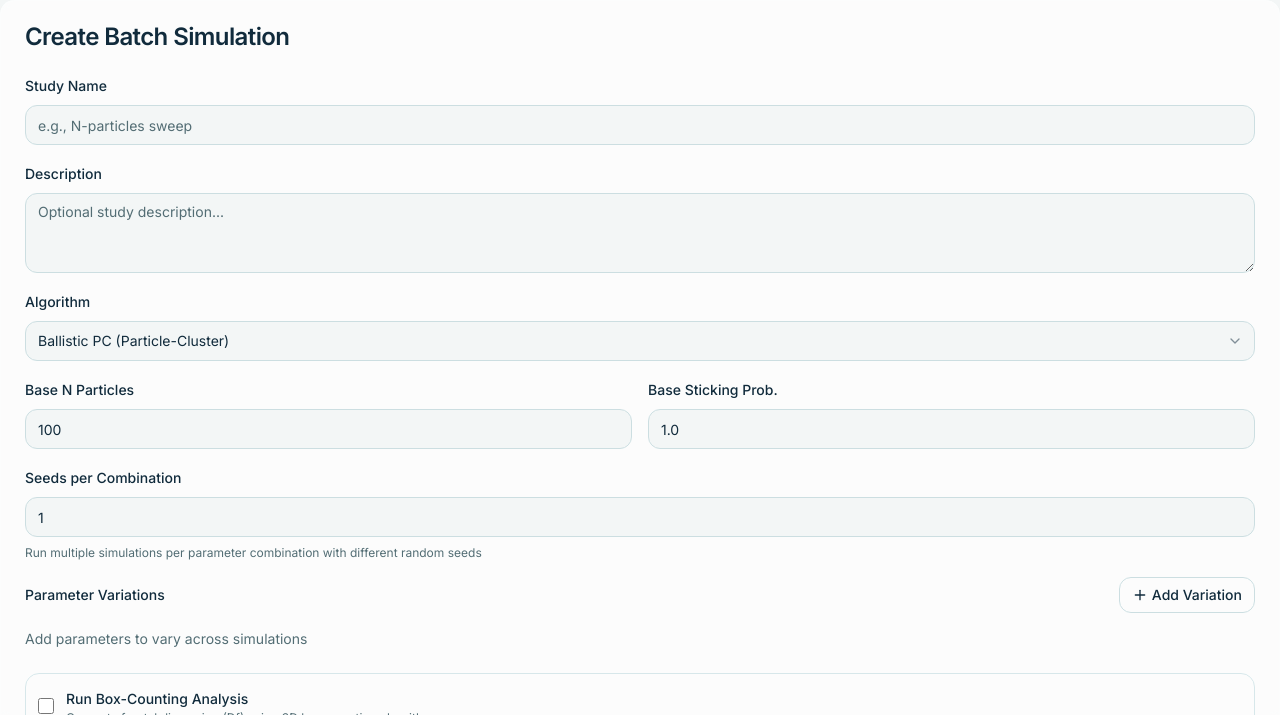
Scenario: BatchSimulationForm — new parameter grid options › seed_type chip click toggles selection
Select "Tunable CC (Cluster-Cluster)" in the dropdown: (640, 341) [25,321,1255,361]
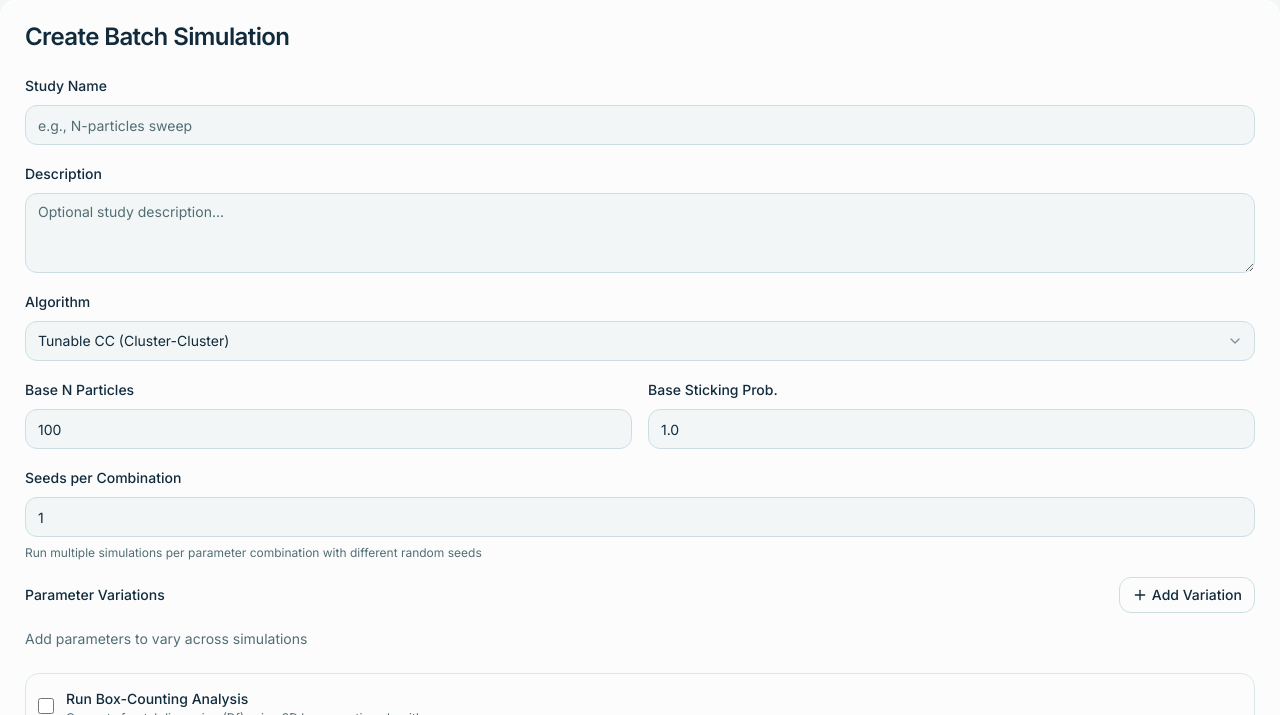
Click the button "Add Variation": (1187, 595) [1119,577,1255,613]
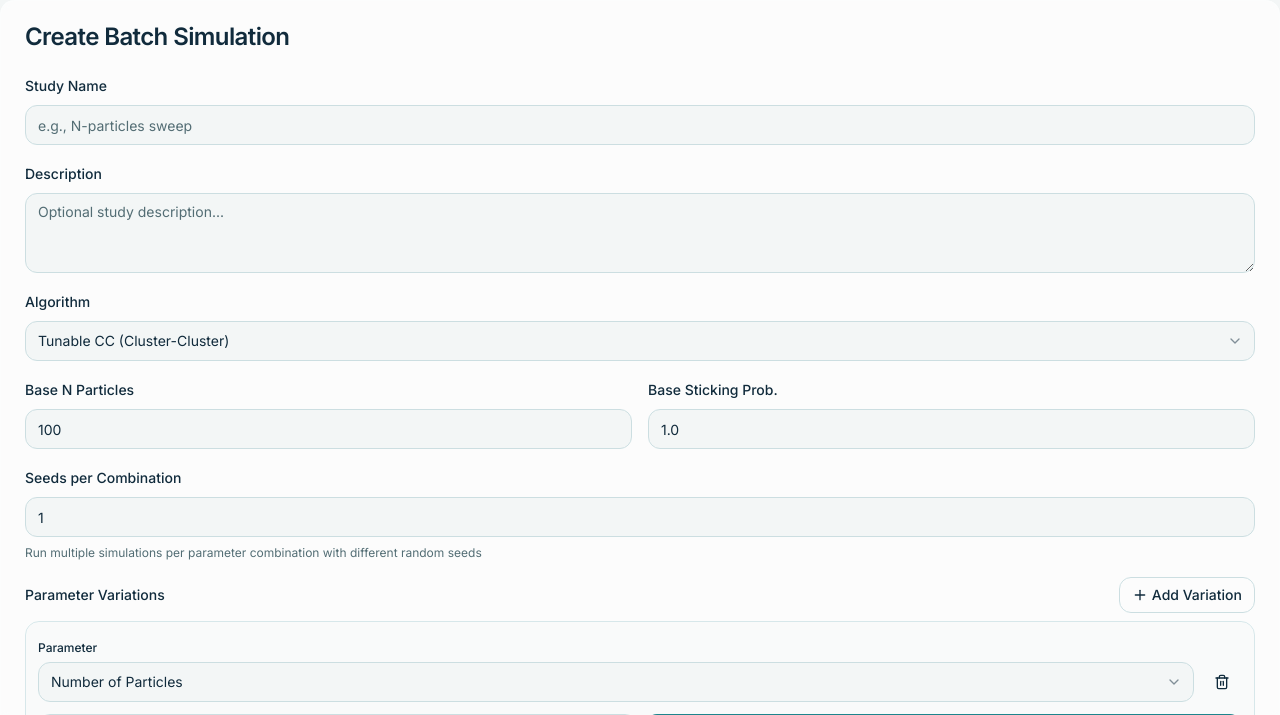
Select "Seed type (monomer/dimer/trimer)" in the dropdown below "Parameter Variations": (616, 682) [38,662,1194,702]
(page scrolled)
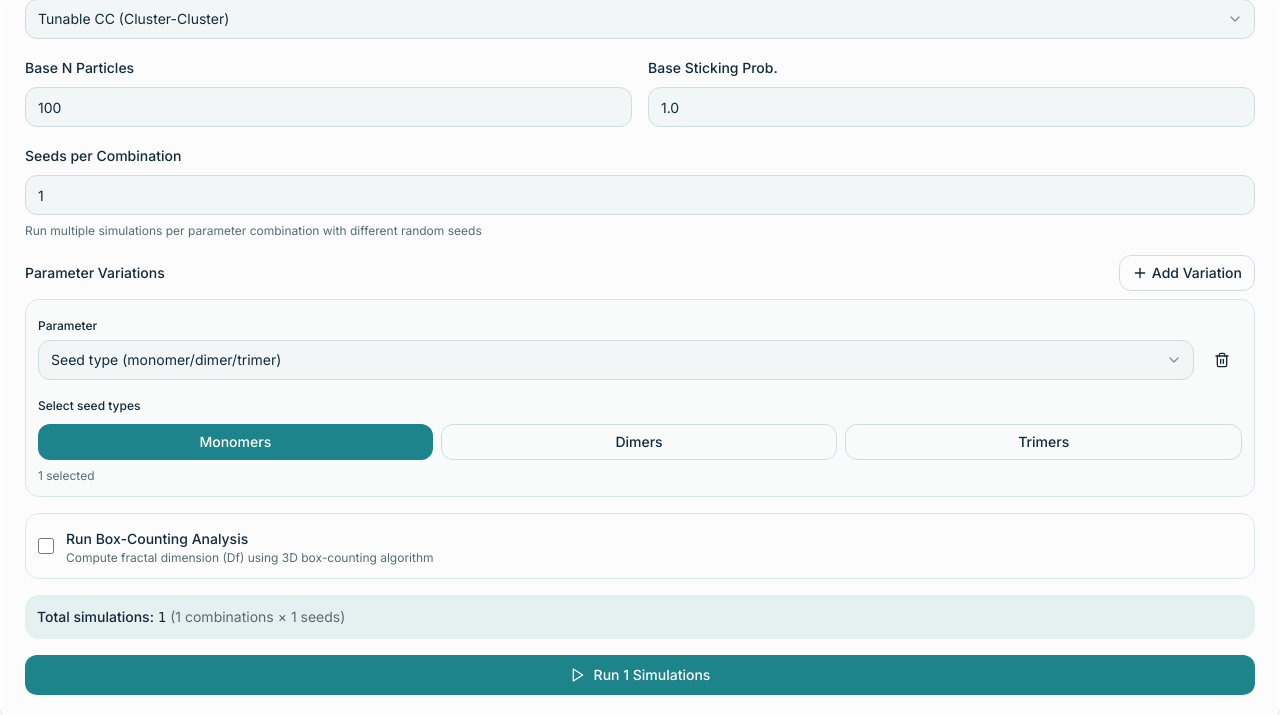
# Click dimers to select it (already selected: monomers)
Click the button "dimers": (639, 442) [441,424,837,460]
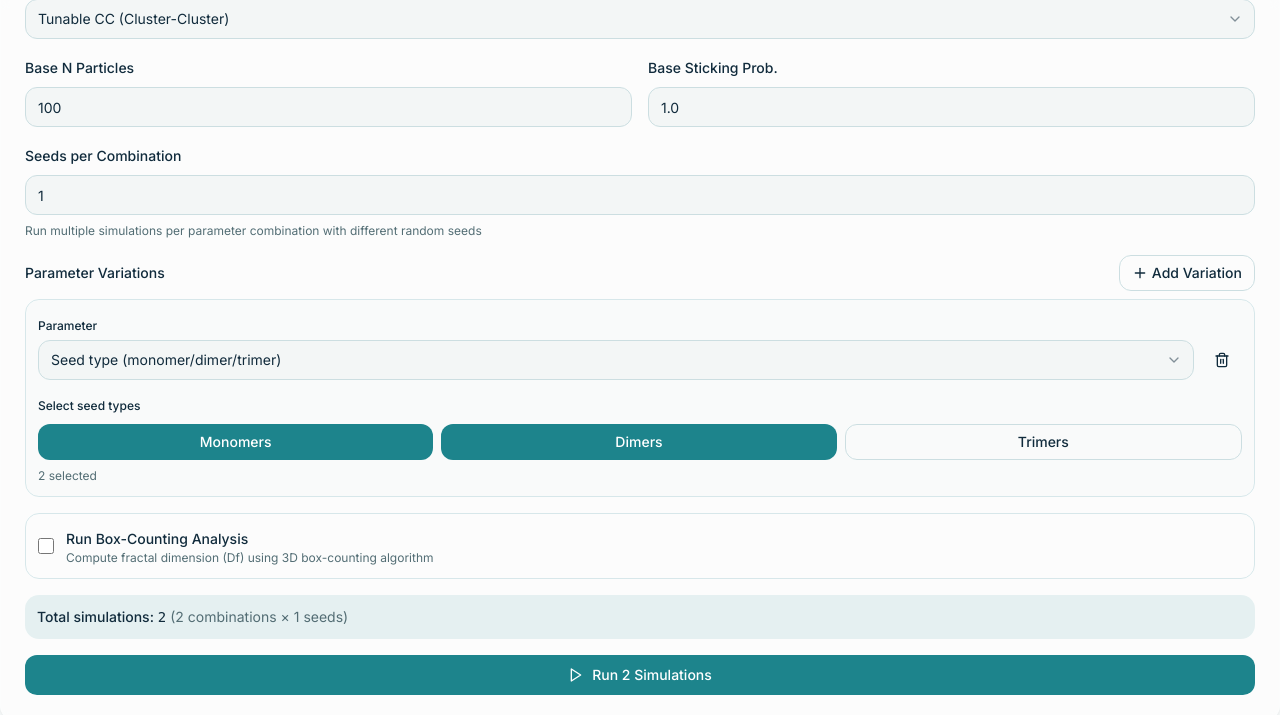
# Click trimers to also select it
Click the button "trimers": (1043, 442) [845,424,1242,460]
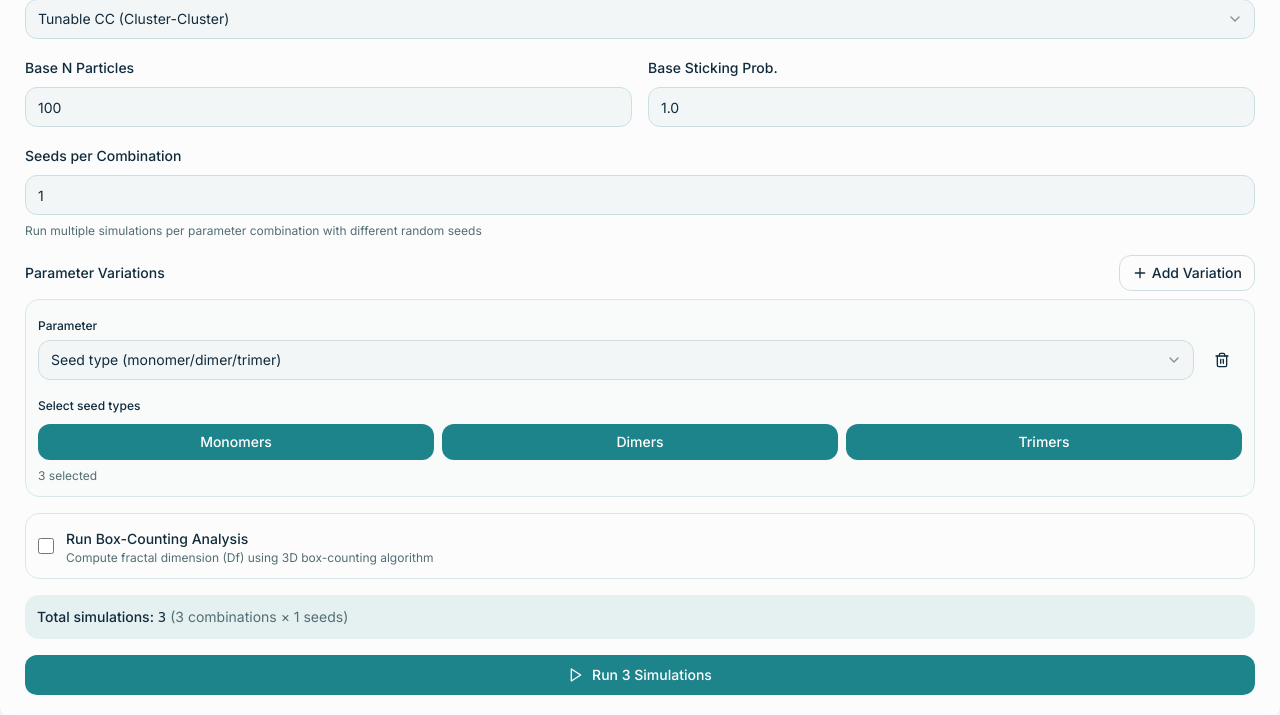
Now the text "3 selected" is shown, box [38,468,97,483]
